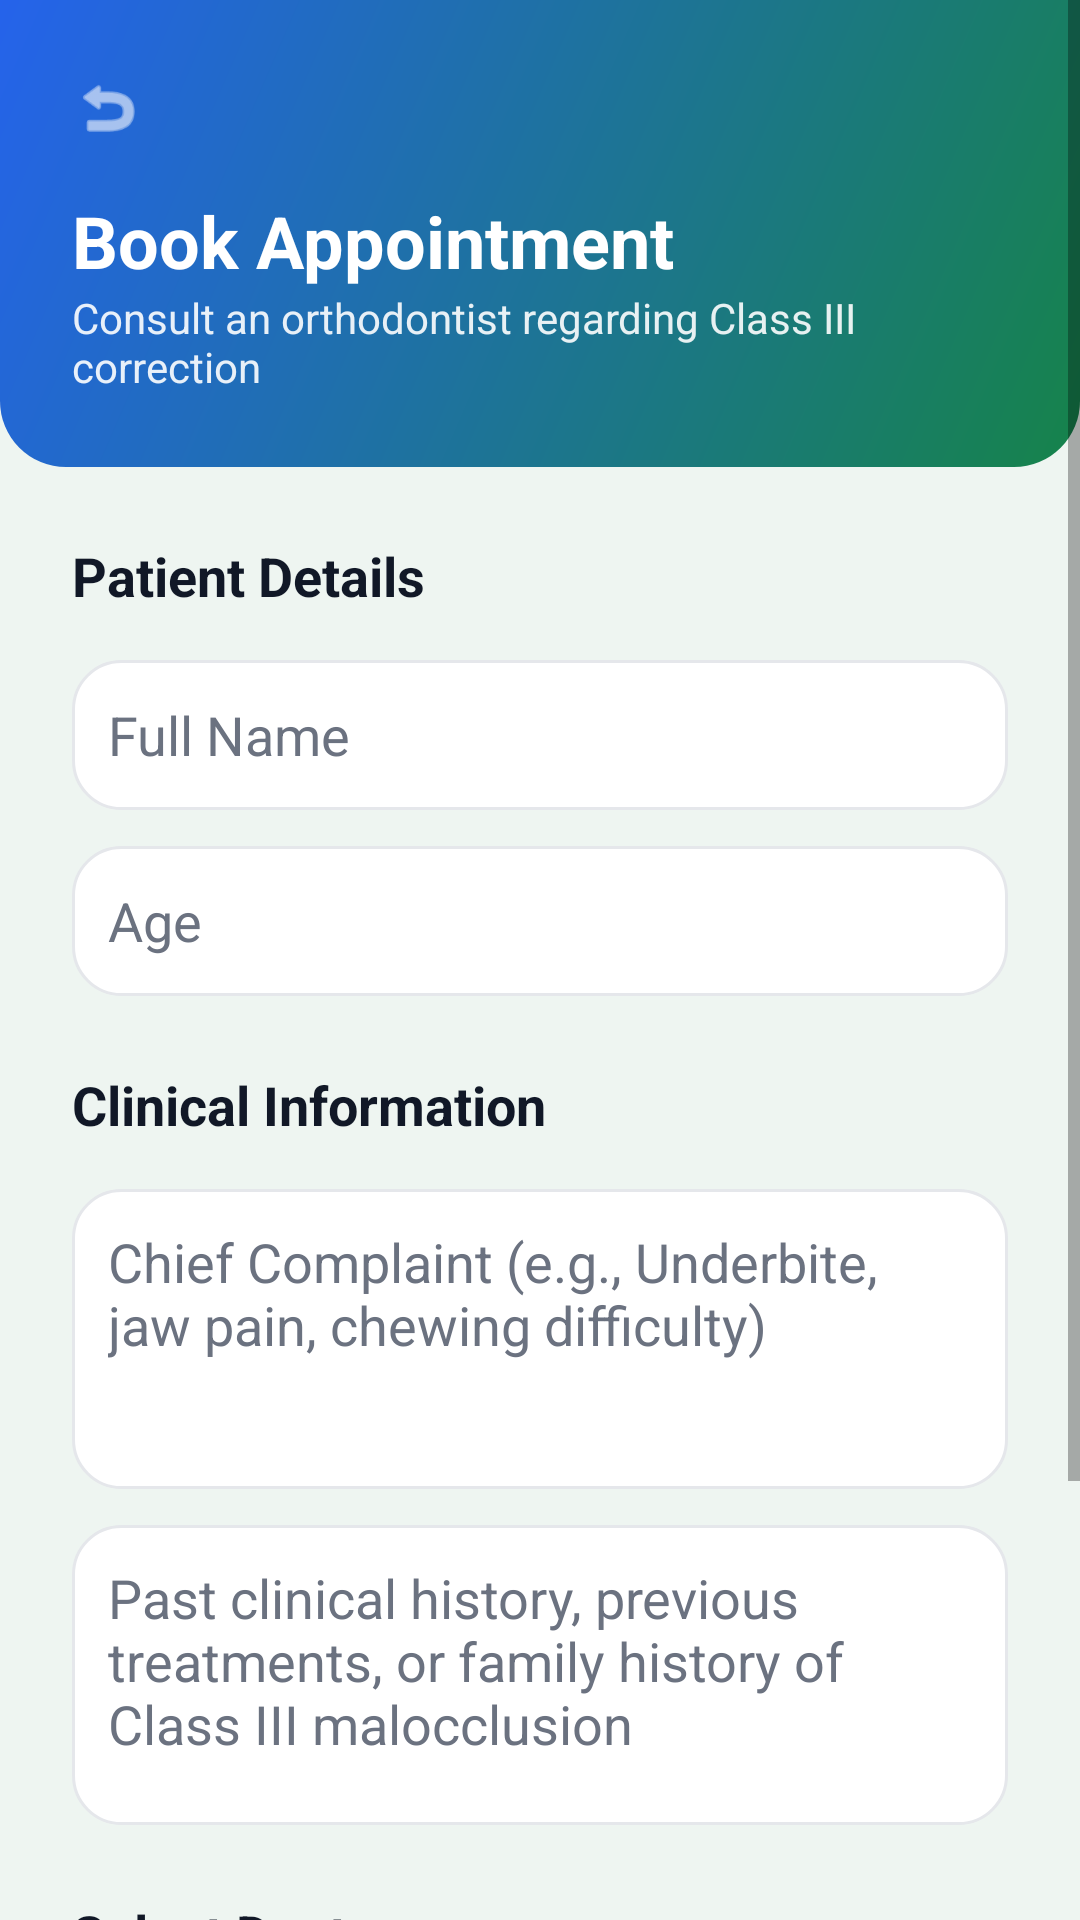

Icons on this 1080px x 1920px Android screen, each with the point to tap as (x,y):
revert: (109,108)
